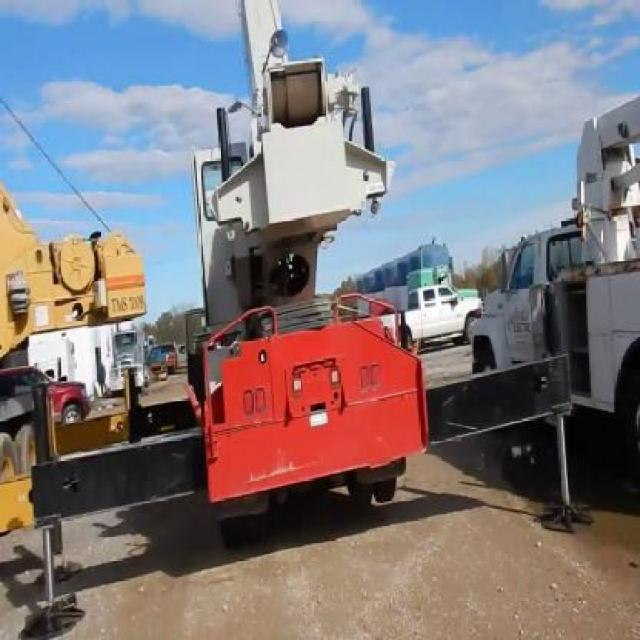Mobile Crane: (34, 0, 580, 628)
